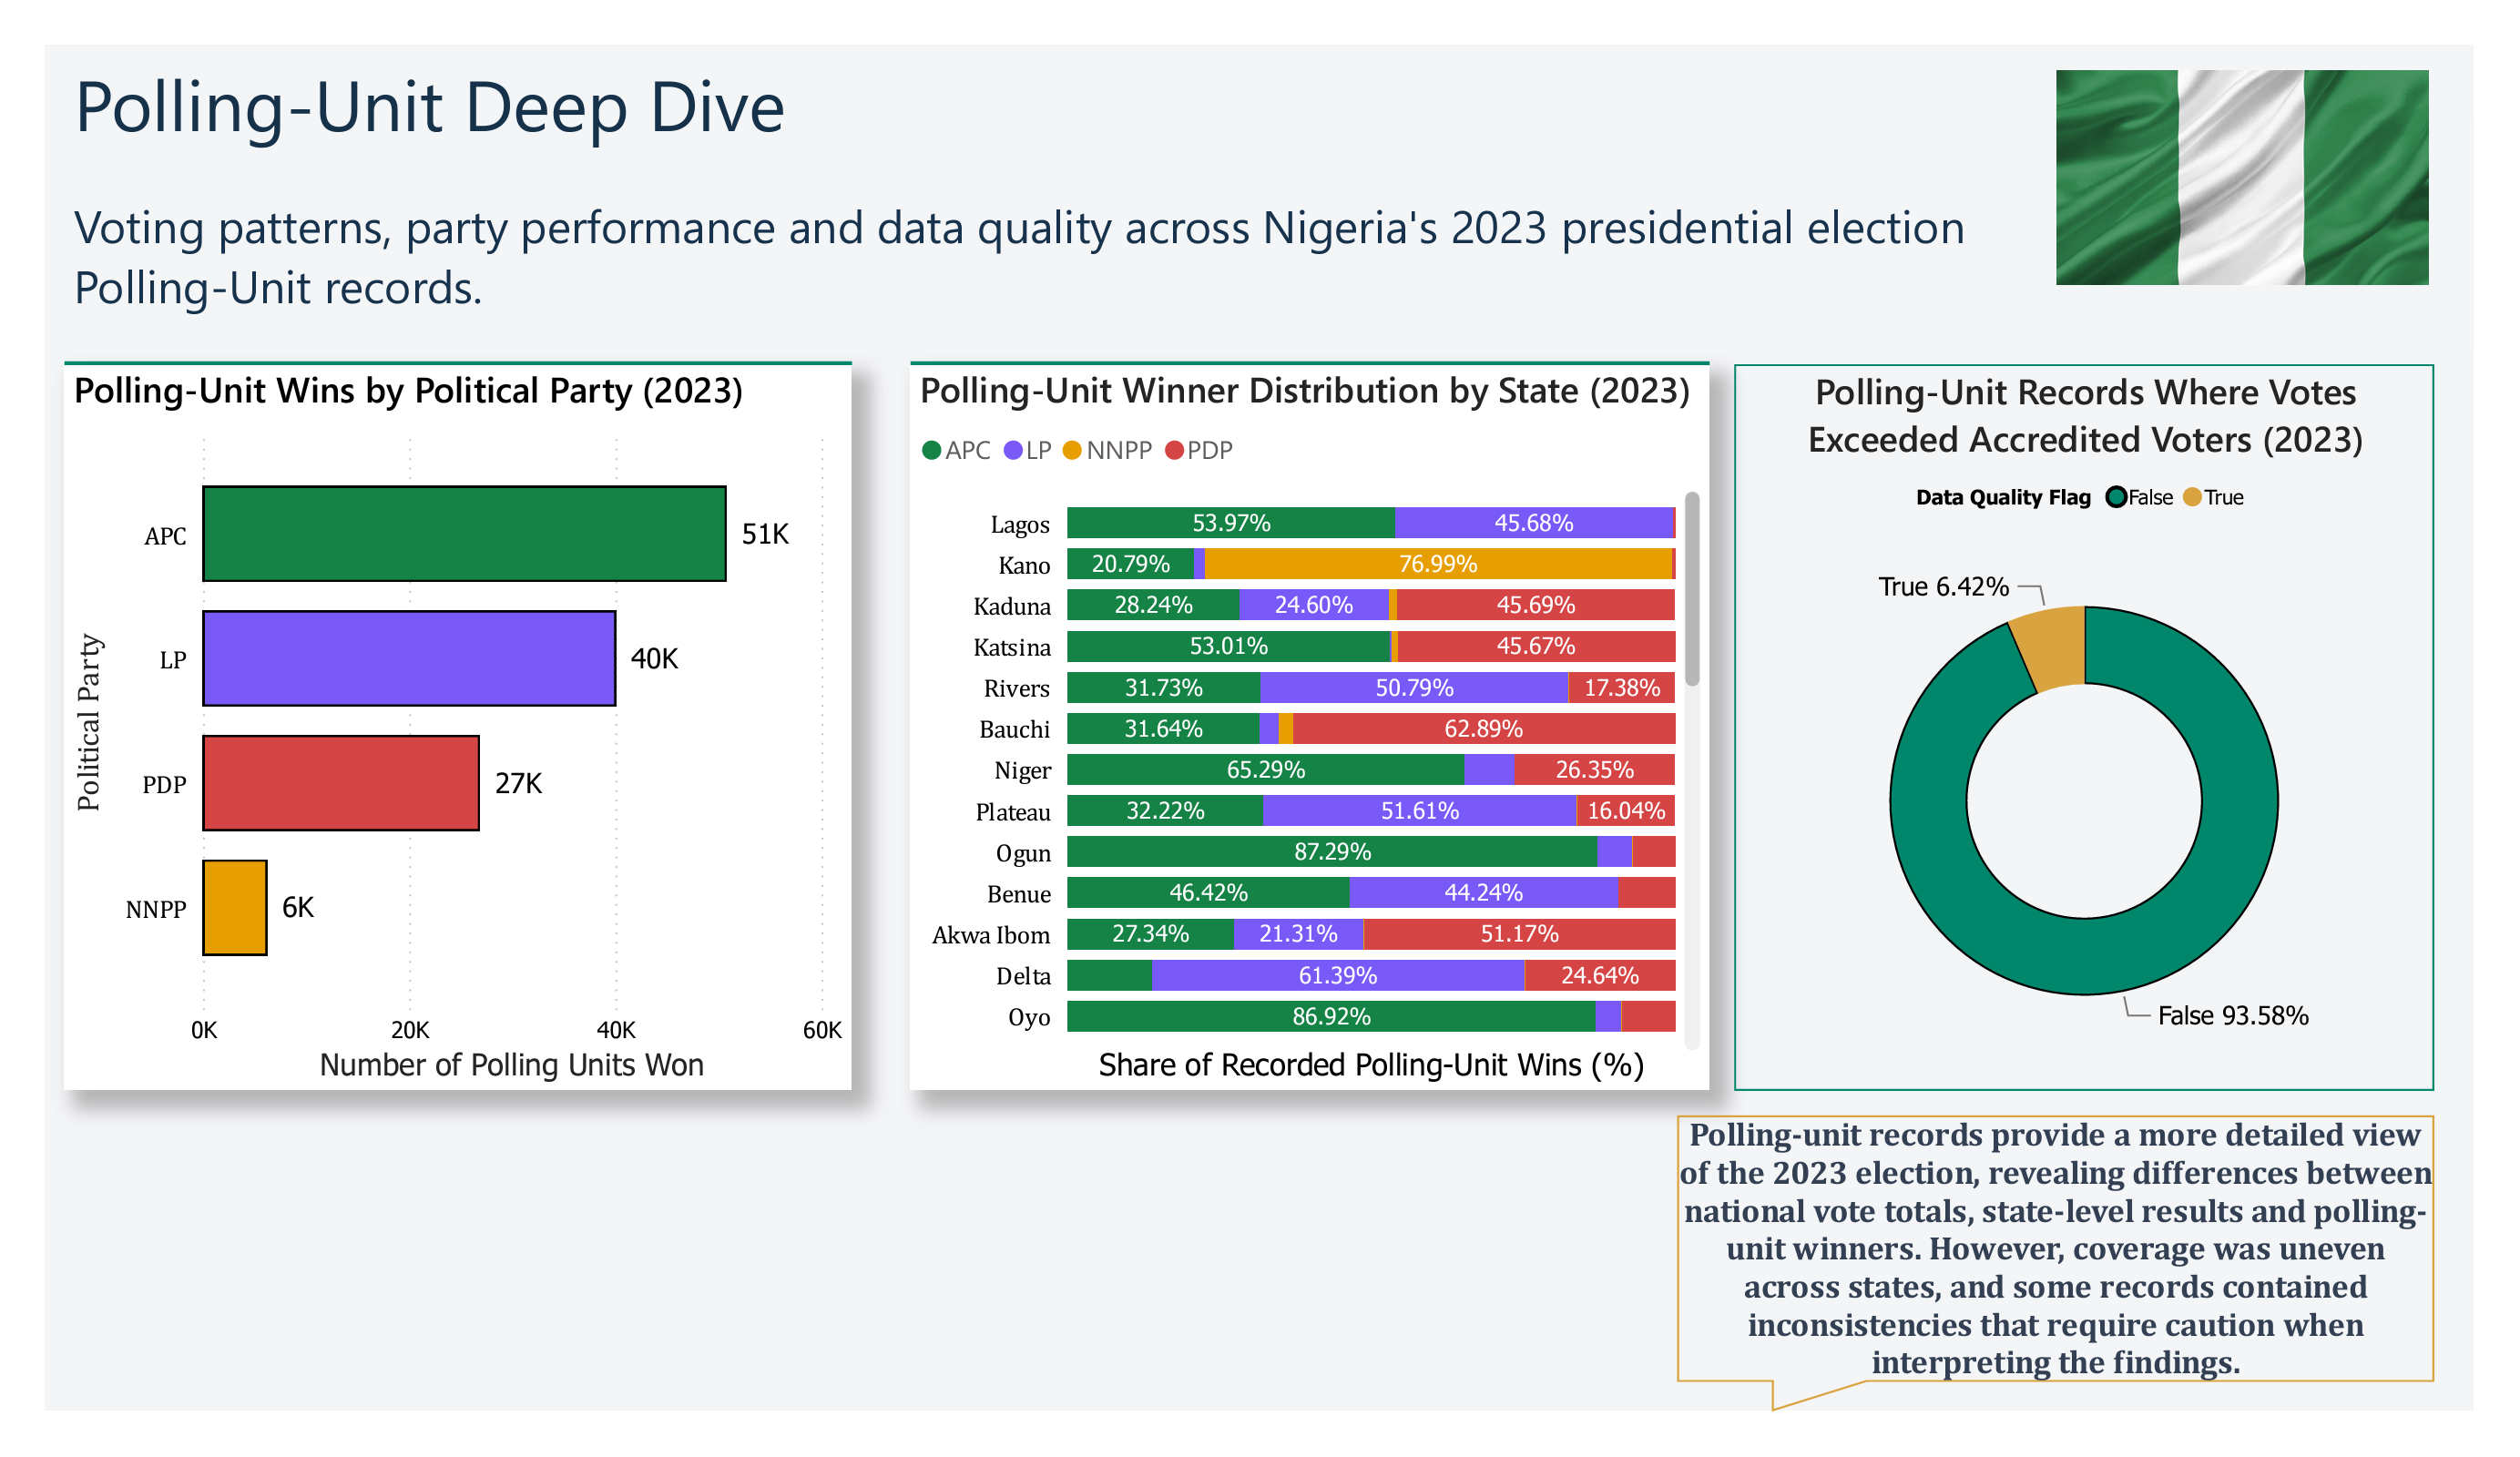

What the dashboard file says about the page in this screenshot:
{"tool":"powerbi","page":{"name":"2023 POLLING UNIT ANALYSIS","canvas":[1280,720],"ordinal":6},"visuals":[{"type":"textbox","box":[10.3,0,445.2,60.2],"z":0},{"type":"image","box":[1046.2,13.2,223.3,113.1],"z":1000},{"type":"textbox","box":[10.3,73.5,1035.9,82.3],"z":2000},{"type":"clusteredBarChart","title":"Polling-Unit Wins by Political Party (2023)","fields":{"Category":["fact_polling_unit.polling_unit_winner"],"Y":["CountNonNull(fact_polling_unit.pu_code)"]},"box":[10.3,167.5,414.4,383.5],"z":3000},{"type":"shape","box":[10.3,151.3,414.4,32.3],"z":4000},{"type":"hundredPercentStackedBarChart","title":"Polling-Unit Winner Distribution by State (2023)","fields":{"Category":["fact_polling_unit.state"],"Series":["fact_polling_unit.polling_unit_winner"],"Y":["CountNonNull(fact_polling_unit.pu_code)"]},"box":[455.5,167.5,421.7,383.5],"z":5000},{"type":"shape","box":[455.5,151.3,421.7,32.3],"z":6000},{"type":"donutChart","title":"Polling-Unit Records Where Votes Exceeded Accredited Voters (2023)","fields":{"Category":["fact_polling_unit.votes_exceed_accredited"],"Y":["CountNonNull(fact_polling_unit.pu_code)"]},"box":[890.4,167.5,368.8,383.5],"z":7000},{"type":"shape","box":[859.6,564.2,399.7,155.8],"z":8000}]}

Visuals, with their boxes on the page's 1280x720 design canvas (x1, y1, x2, y2). These are canvas units, not pixel positions in the 2520x1457 screenshot, which may show the page scaled, cropped or inside an application window:
textbox: bbox=[10, 0, 456, 60]
image: bbox=[1046, 13, 1270, 126]
textbox: bbox=[10, 74, 1046, 156]
"Polling-Unit Wins by Political Party (2023)" clusteredBarChart: bbox=[10, 168, 425, 551]
shape: bbox=[10, 151, 425, 184]
"Polling-Unit Winner Distribution by State (2023)" hundredPercentStackedBarChart: bbox=[456, 168, 877, 551]
shape: bbox=[456, 151, 877, 184]
"Polling-Unit Records Where Votes Exceeded Accredited Voters (2023)" donutChart: bbox=[890, 168, 1259, 551]
shape: bbox=[860, 564, 1259, 720]
